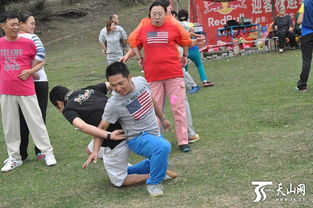fall: (57, 71, 183, 199)
